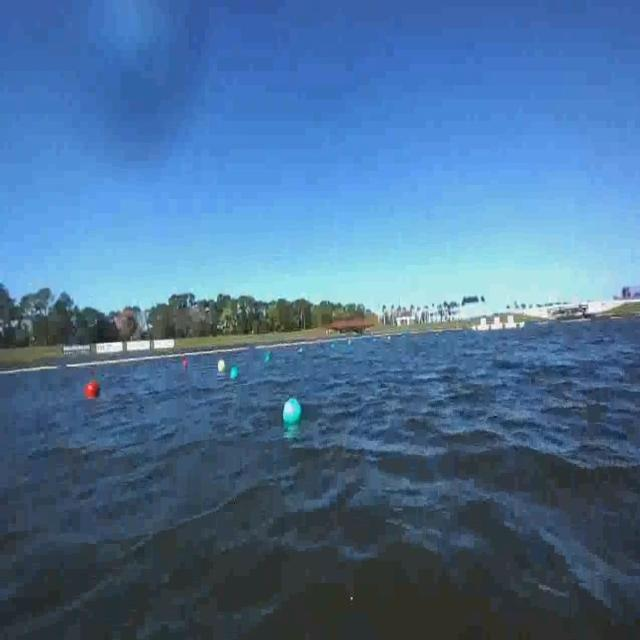green-buoy: (283, 400, 301, 428), (229, 364, 238, 378)
red-buoy: (86, 382, 103, 401), (181, 356, 189, 368)
yellow-buoy: (218, 359, 226, 372)
